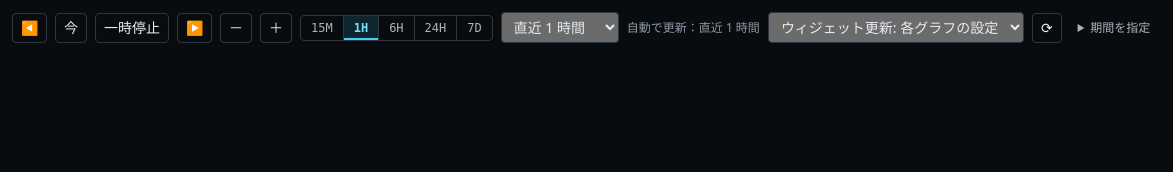
it: TimeRangeControls › 一時停止を押すと、今の表示範囲を固定して動きを止める（幅はそのまま）
Click the button "一時停止".
click(132, 28)  # box [95,12,169,42]
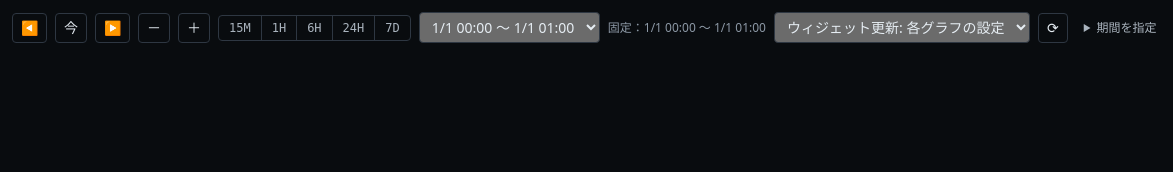
Expected: the button "一時停止" is gone
